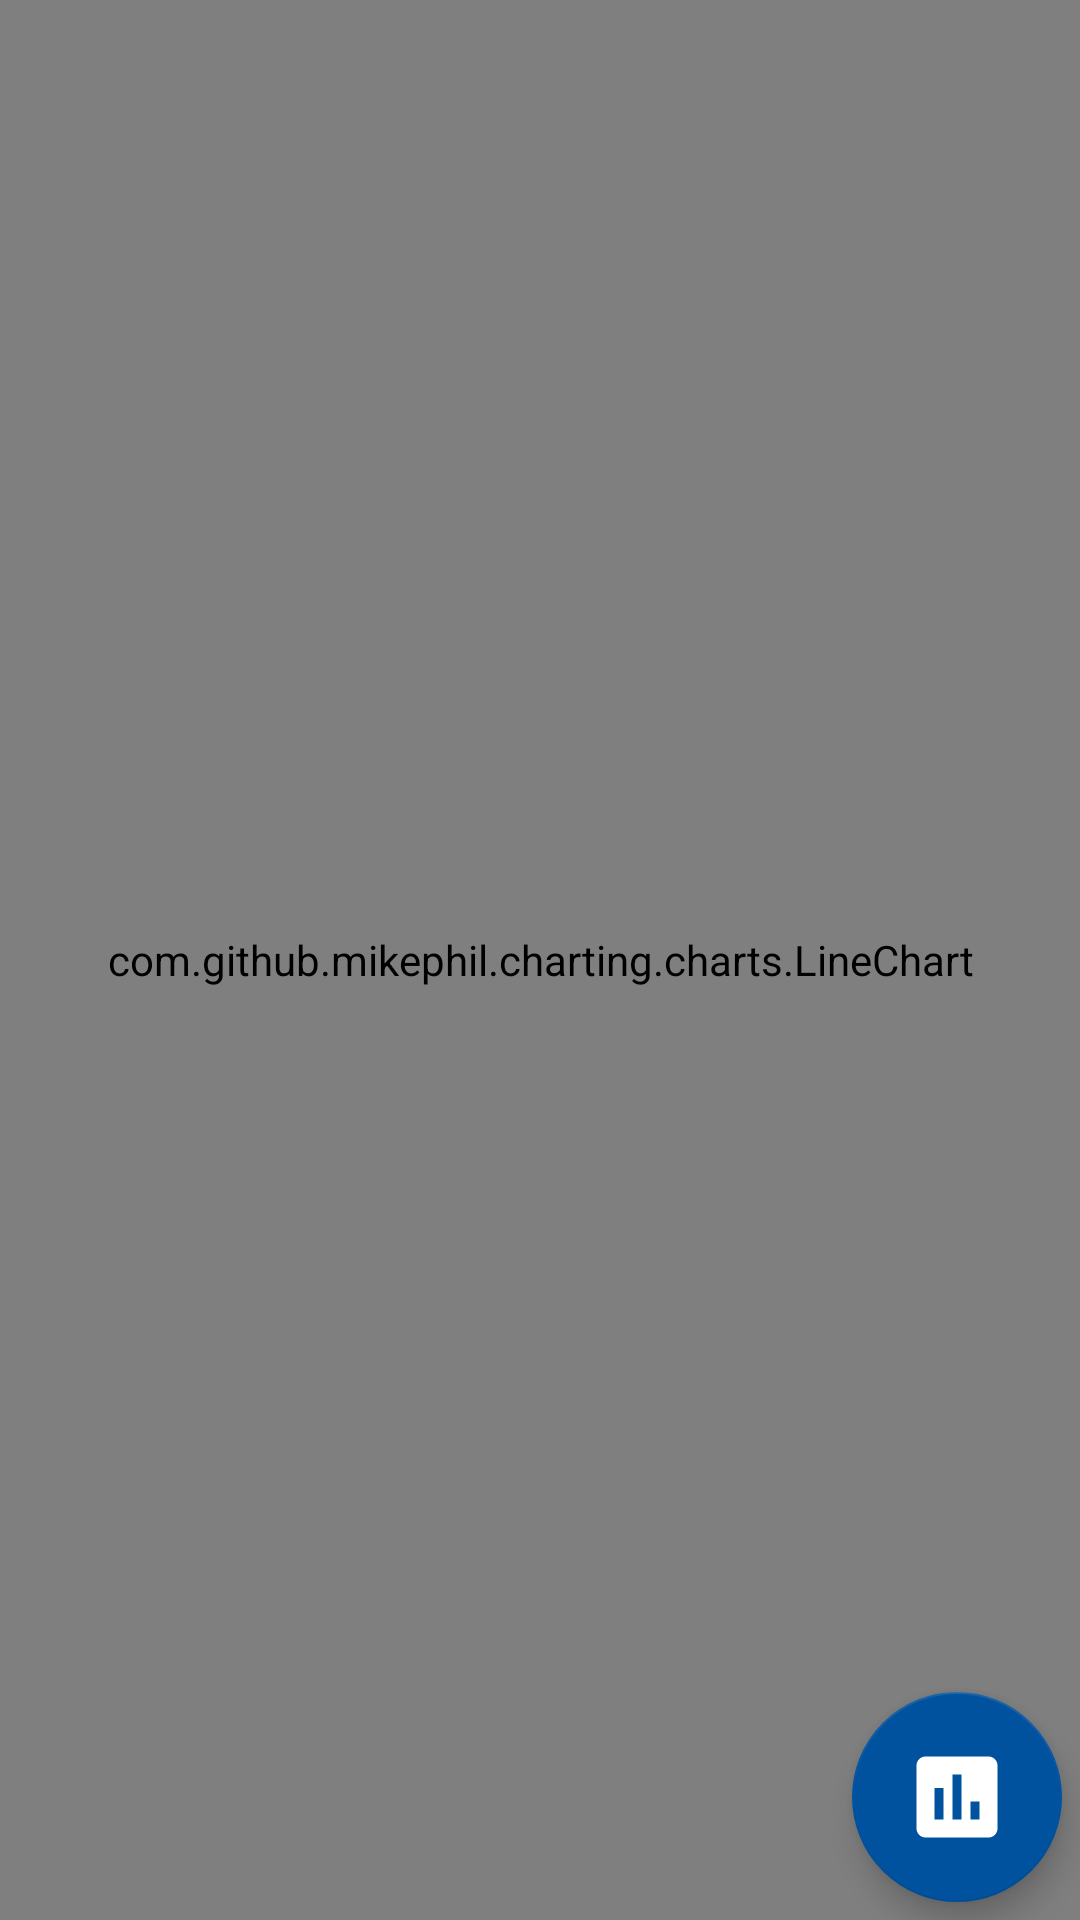

Named icons in this screenshot (1080*1920) and their bounding boxes, (x1, y1, x2, y2):
insert chart: (852, 1692, 1062, 1902)
